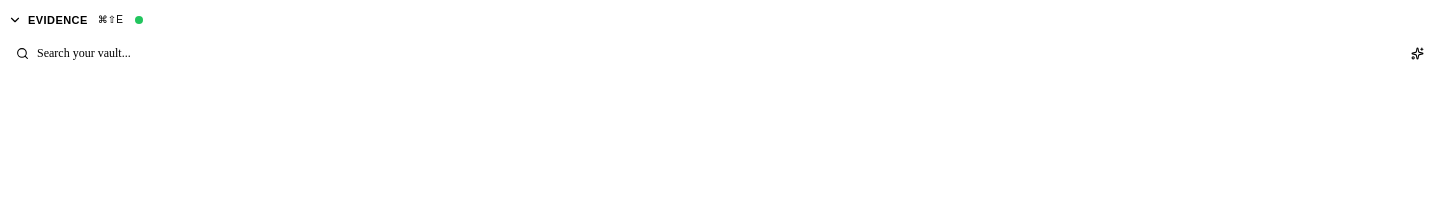
Test: EvidenceRail › clears results when search input is emptied
# Type then clear
Type "test" into the field with class "search-input" at (712, 54), box [35,45,1389,62]
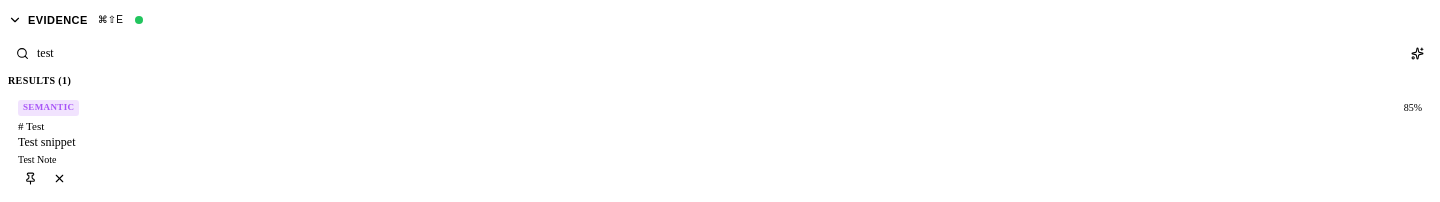
# Now clear
Clear the field with class "search-input" at (712, 54), box [35,45,1389,62]
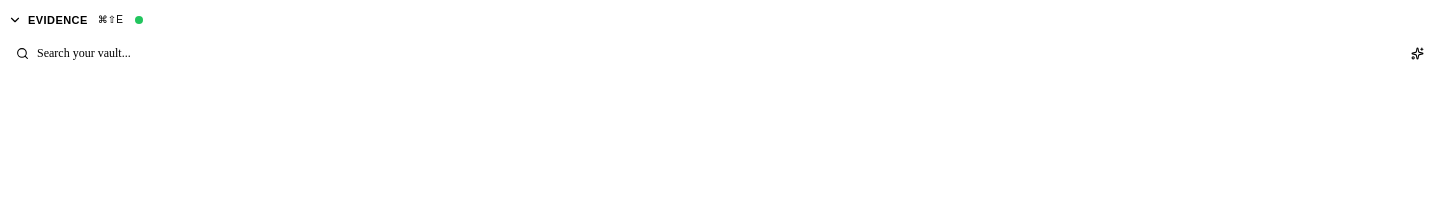
Result: the element with class "results-section" is gone
